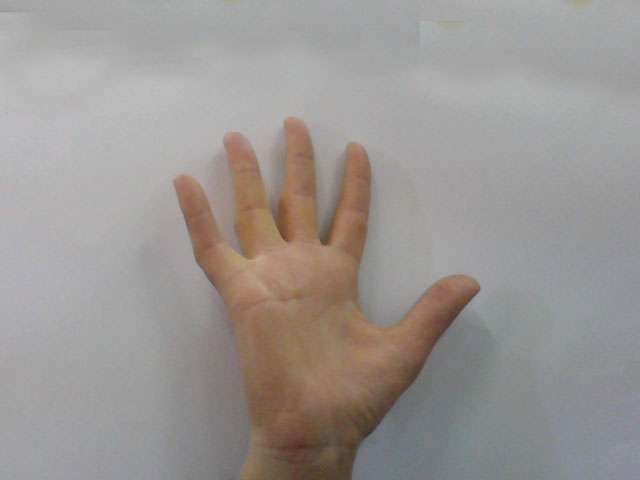hand: (159, 100, 498, 437)
